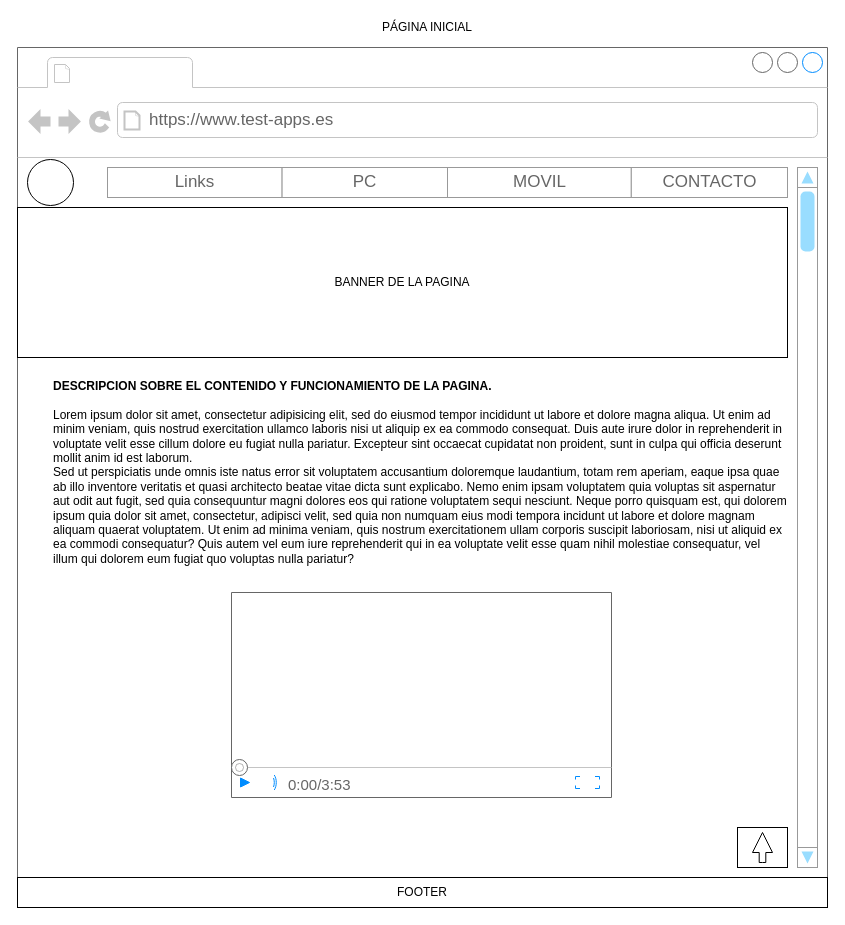
Image size: 845x925. Some labels were removed from this diagram. The centre of each missing label's shape, as x and y in pixels:
Inicio: the point at 147,72
LOGO: the point at 50,182
VIDEO INICIAL PARA MOSTRAR CONTENIDO BASICO DE LA PAGINA: the point at 421,695
